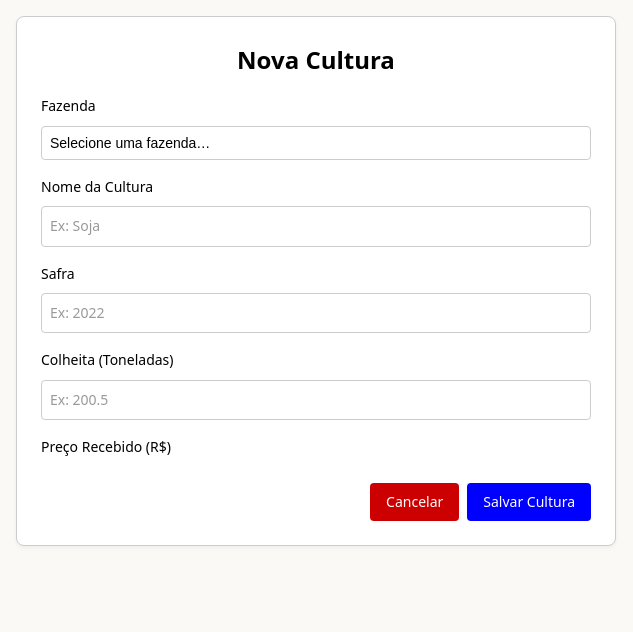
Test: NewCropForm › exibe mensagens de erro específicas se tentar submeter campos obrigatórios vazios
Click the button "Salvar Cultura": (529, 502) [467,482,591,521]
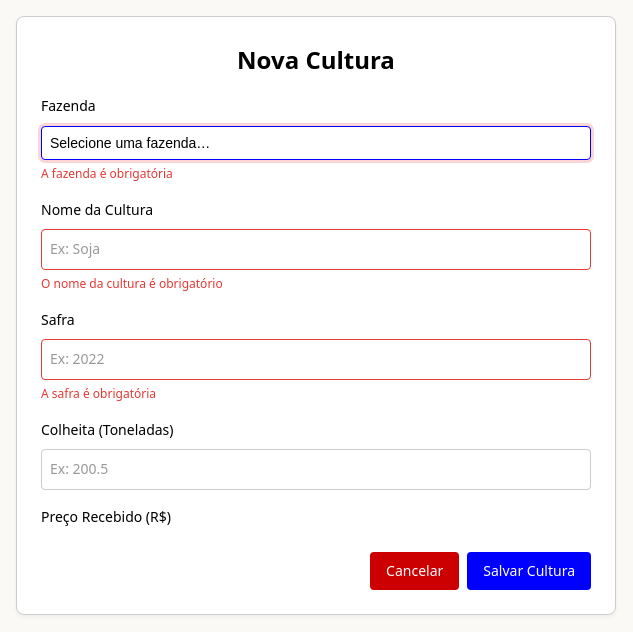
Expected: the text "A fazenda é obrigatória" is shown, [41,165,173,182]
Expected: the text "O nome da cultura é obrigatório" is shown, [41,275,223,292]
Expected: the text "A safra é obrigatória" is shown, [41,385,156,402]
